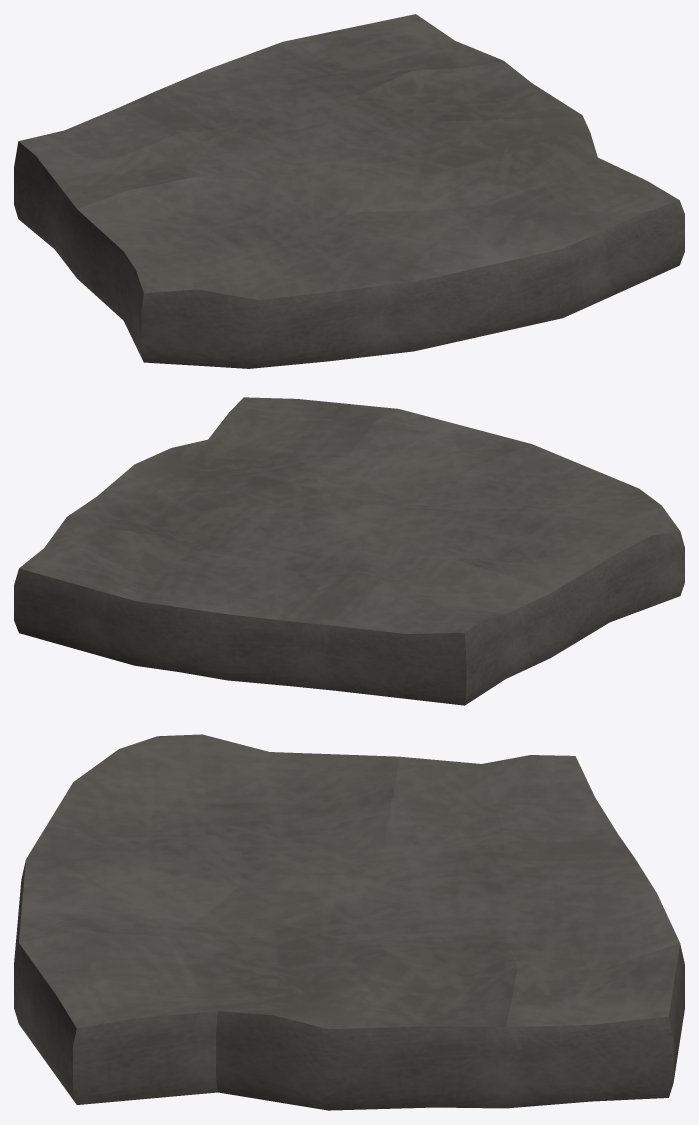
The model's file is ZachMesaRock25.fbx.
3 views of the same model, one above another, from view 1: azimuth 30°, elevation 25°; view 2: azimuth 150°, elevation 25°; view 3: azimuth 270°, elevation 25° (orthographic). The views are drawn at different scales.
Parts seen in each view (by area): view 1: ZachMesaRock25; view 2: ZachMesaRock25; view 3: ZachMesaRock25.
Part boxes in pixels (bbox=[...]): ZachMesaRock25: bbox=[14, 14, 684, 368]; ZachMesaRock25: bbox=[14, 397, 684, 705]; ZachMesaRock25: bbox=[14, 734, 684, 1110].
Bounding box in the file's own units: 5.81 × 0.8387 × 5.54.
